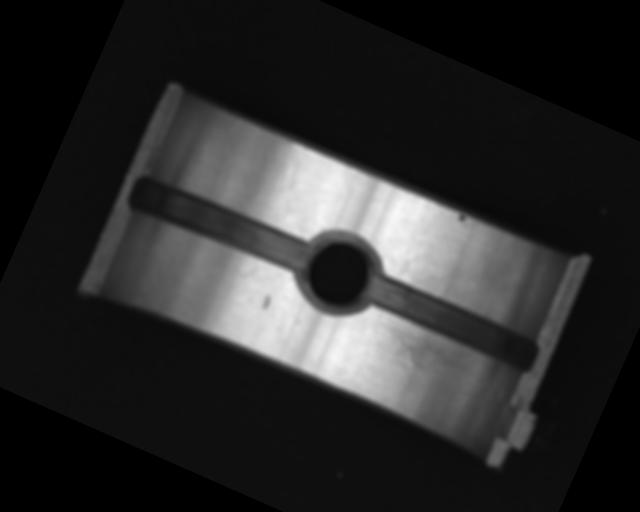blot: (456, 212, 469, 226)
bruise: (260, 292, 274, 311)
gap: (125, 169, 318, 285), (361, 269, 542, 376)
hole: (290, 221, 392, 323)
nick: (263, 166, 302, 228)
scratch: (362, 316, 479, 394)
